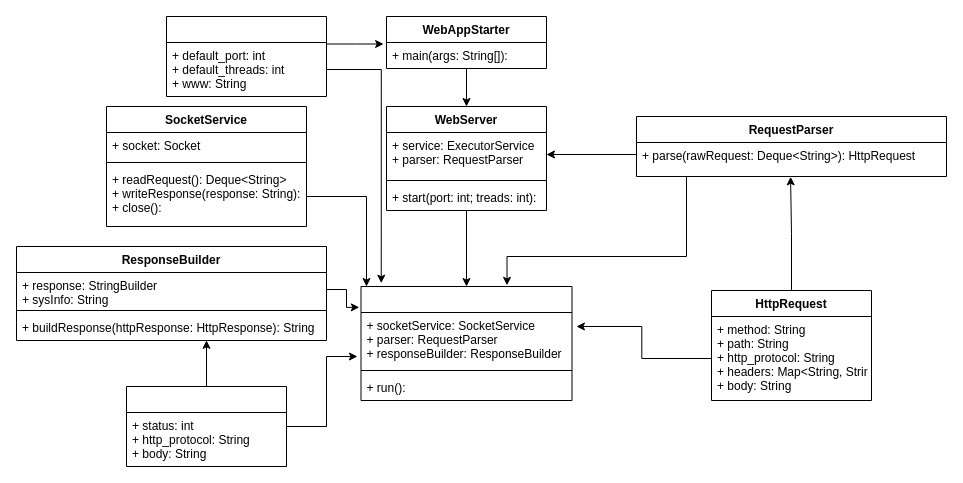
Some shapes in this 963 by 483 pixel diagram are drawn without their labels. Here are the shapes that lost their labels. From the top down, the box of each, then its label:
(166, 16, 326, 96): WebConfig
(360, 286, 572, 400): HandleRequest
(126, 386, 286, 466): HttpResponse
